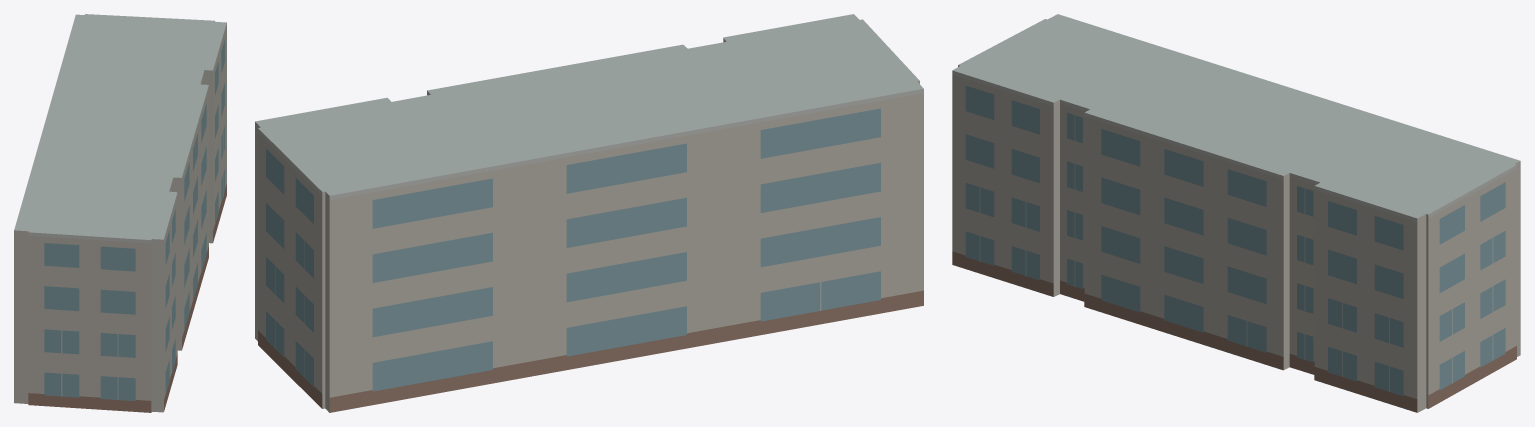
The model's file is survey-upis-32669902.glb.
3 views of the same model, side by side, from view 1: azimuth 30°, elevation 25°; view 2: azimuth 150°, elevation 25°; view 3: azimuth 270°, elevation 25° (orthographic). The views are drawn at different scales.
Parts seen in each view (by area): view 1: survey-upis-32669902.tmp; view 2: survey-upis-32669902.tmp; view 3: survey-upis-32669902.tmp.
Boxes of the visible parts, box(x1,y1,x2,y2) form: survey-upis-32669902.tmp: box(14, 14, 226, 412); survey-upis-32669902.tmp: box(255, 14, 923, 412); survey-upis-32669902.tmp: box(952, 14, 1520, 412).
Size of the model in its own units: 28.1 by 12.45 by 33.
